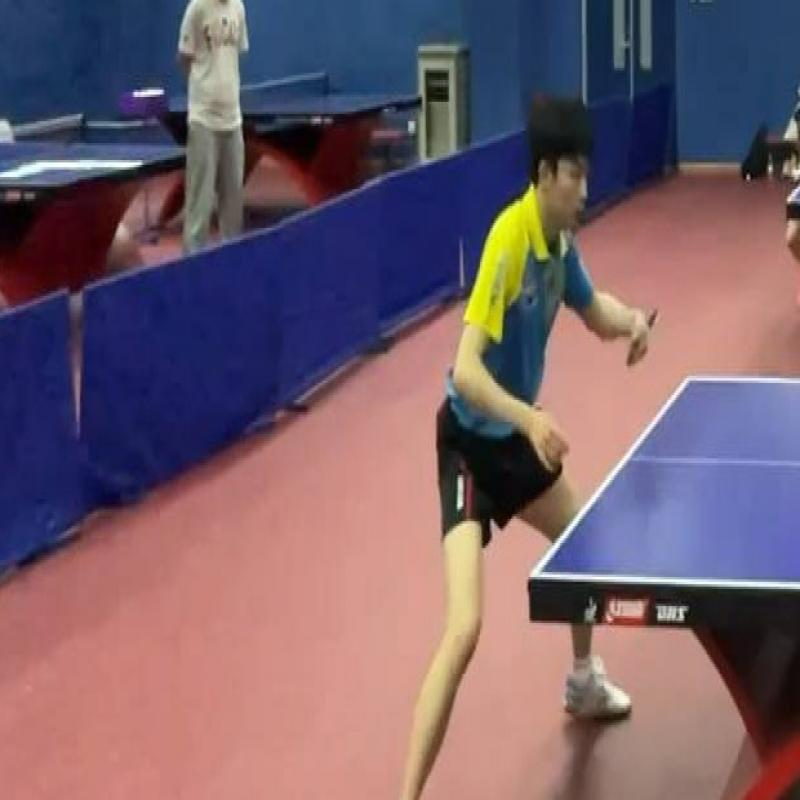bats: (619, 286, 671, 378)
